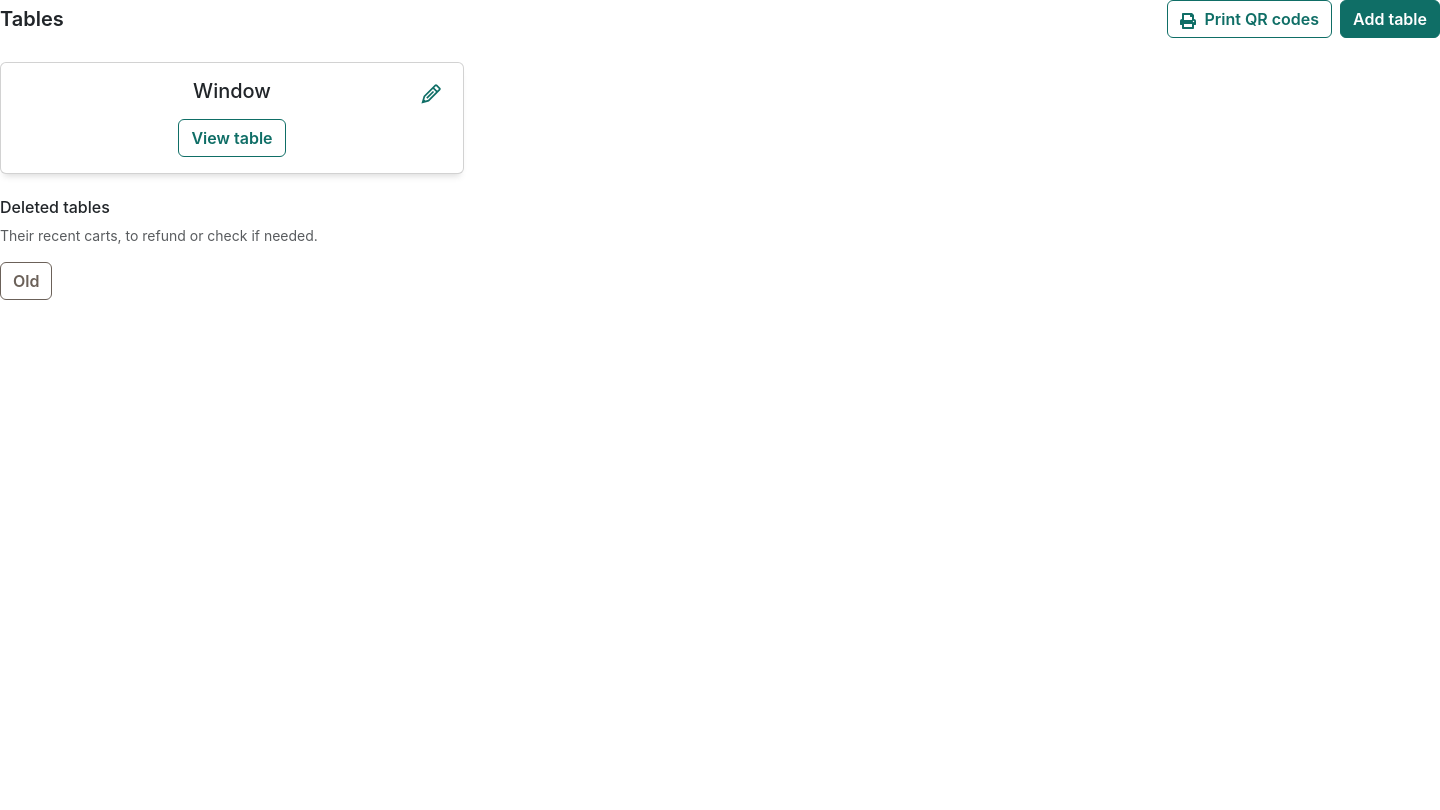
Test: deleted tables on the manager's page › keeps a deleted table's sheet open when it stops needing attention
The image size is (1440, 810).
Click the button with aria-label "View deleted table Old" at (26, 281), box [0, 262, 52, 300]
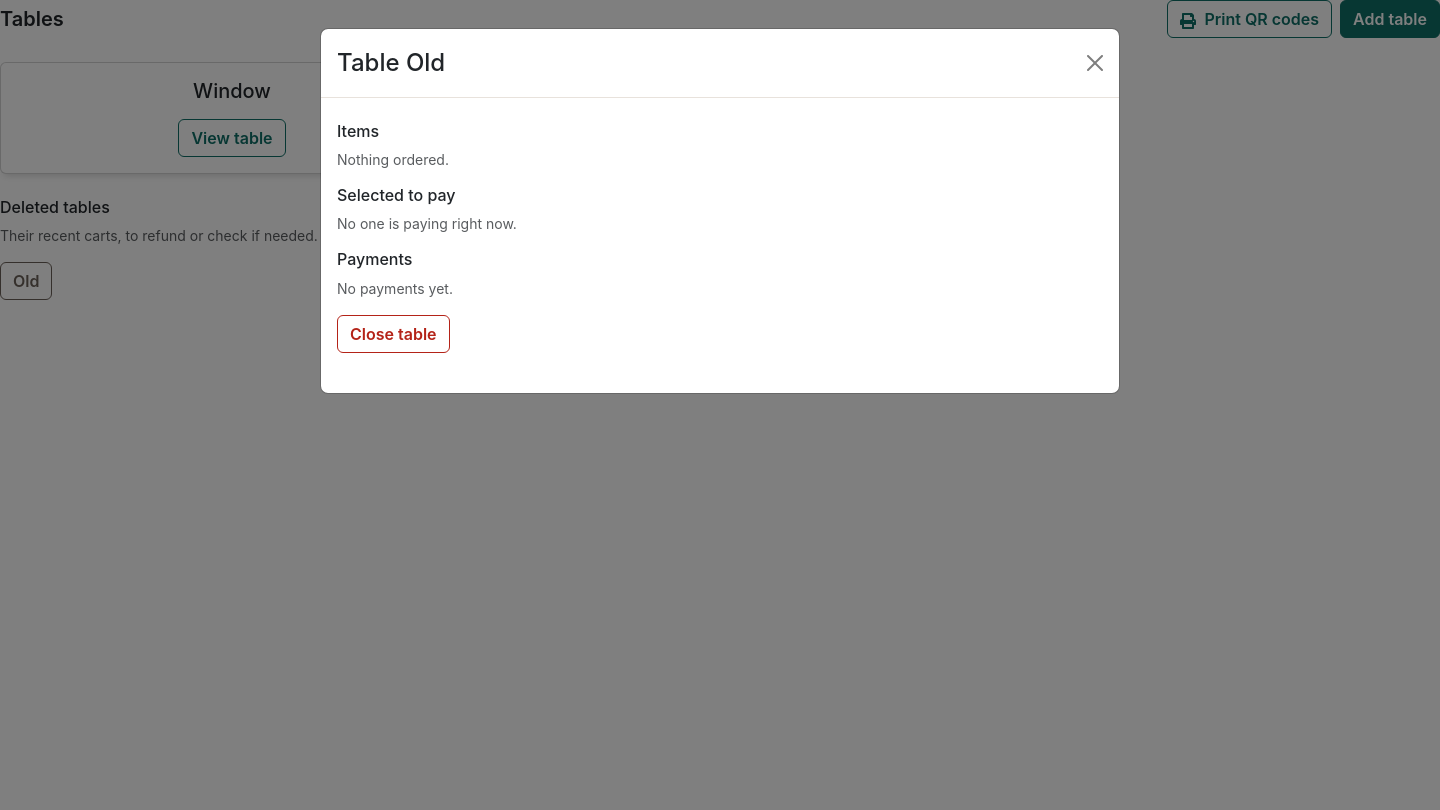
Click the button "Close table" at (393, 334), box [337, 315, 450, 353]
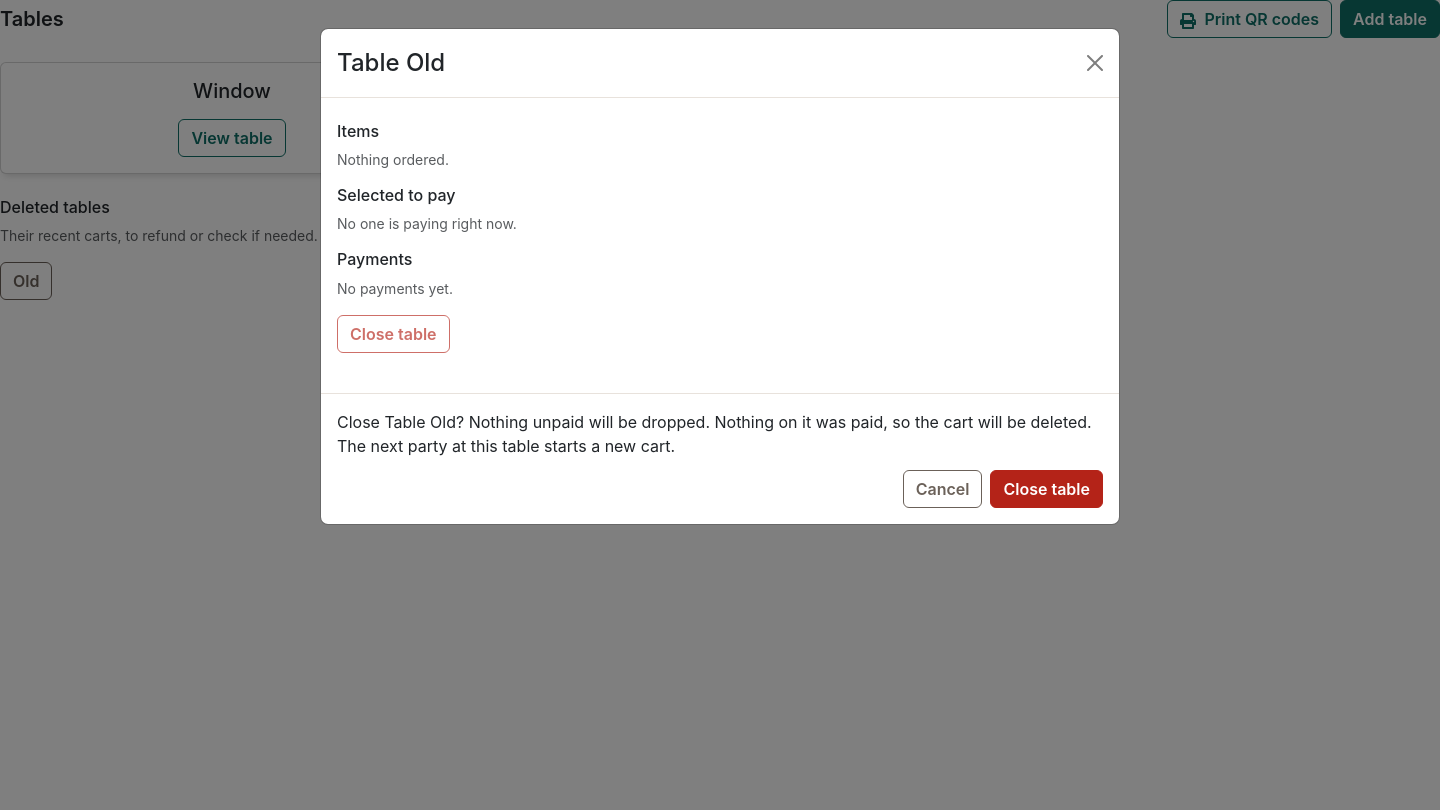
Click the 2nd button "Close table" at (1047, 489), box [990, 470, 1103, 508]
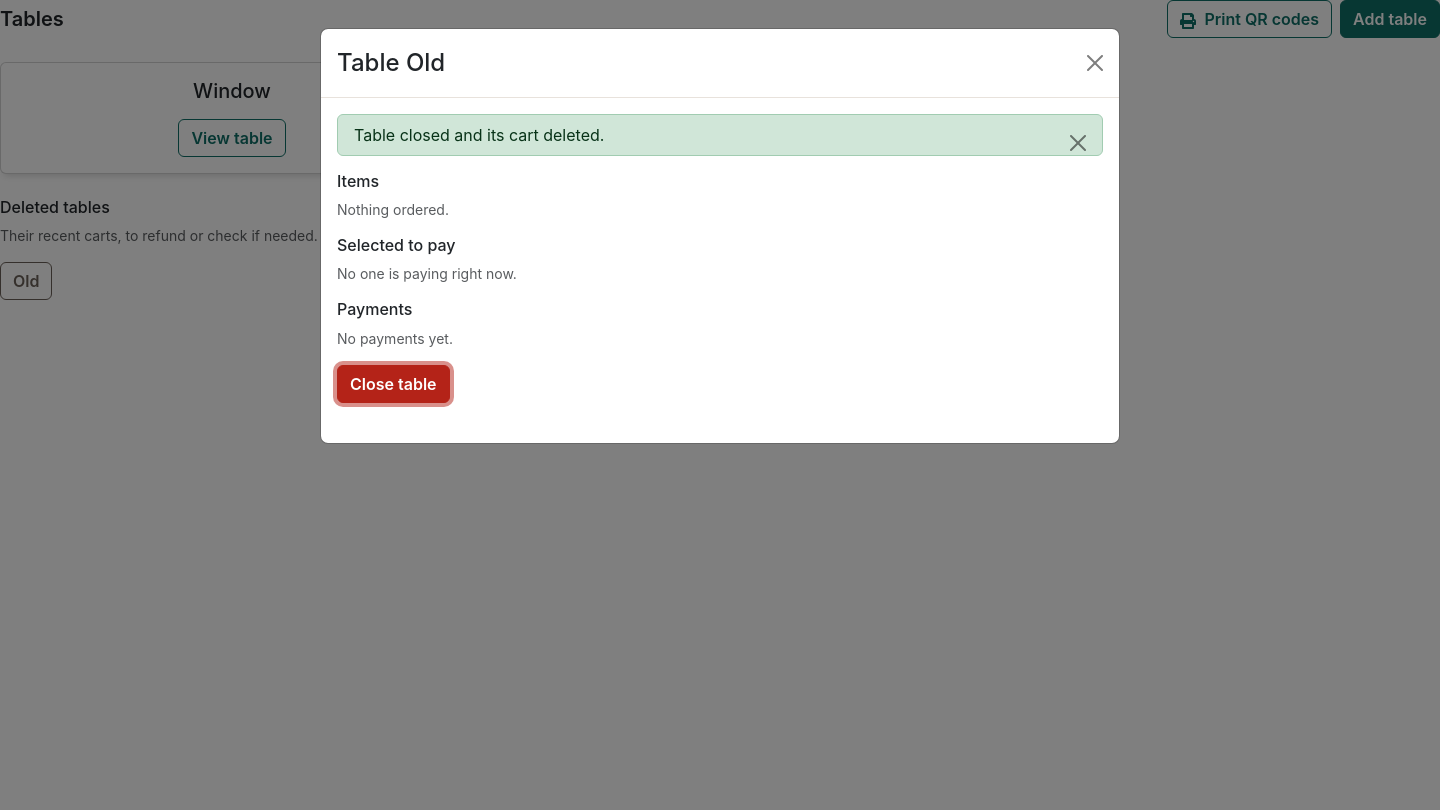
Check: the dialog is shown, box [320, 28, 1120, 444]
Click the button named "Close" at (1095, 63), box [1079, 47, 1111, 79]
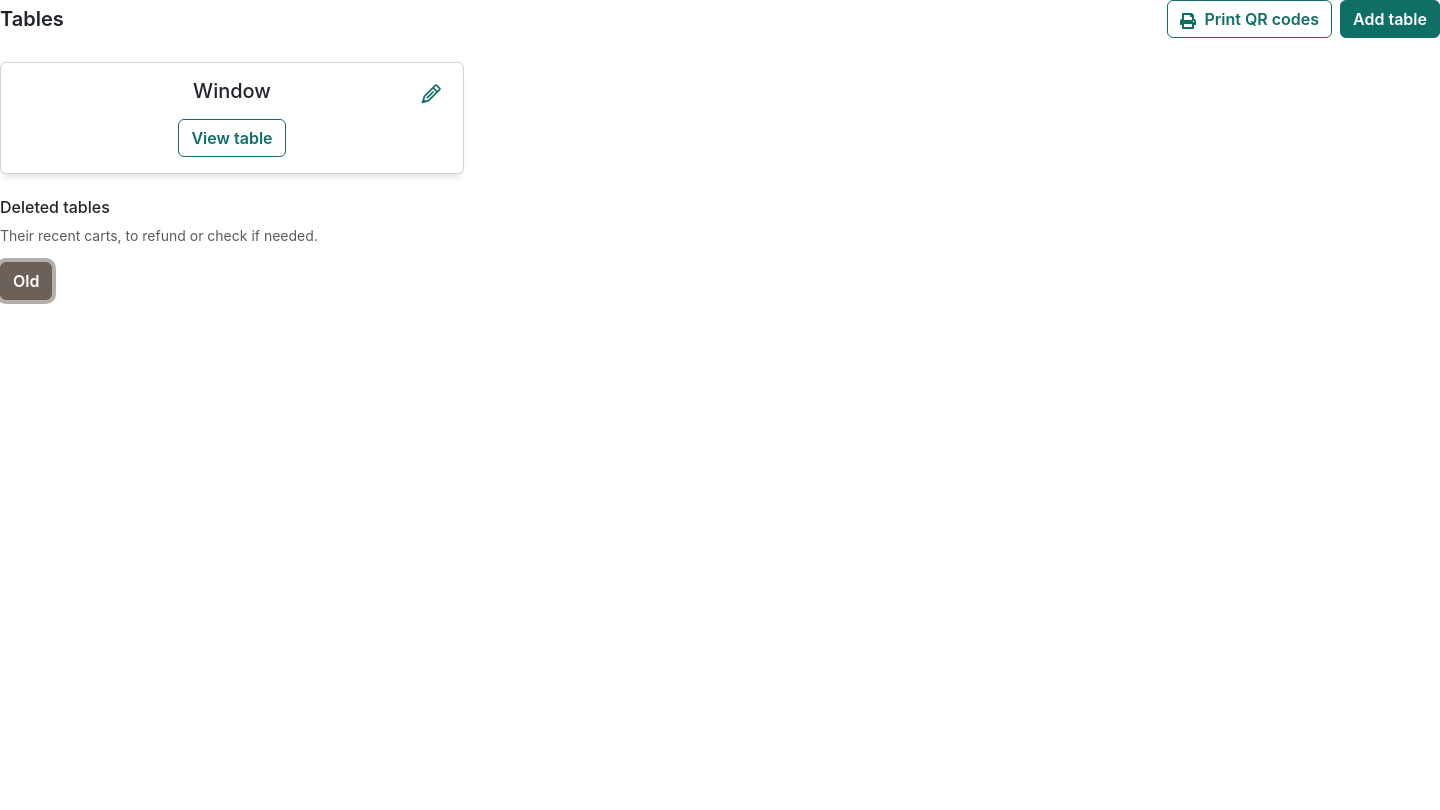
Check: the dialog is gone
